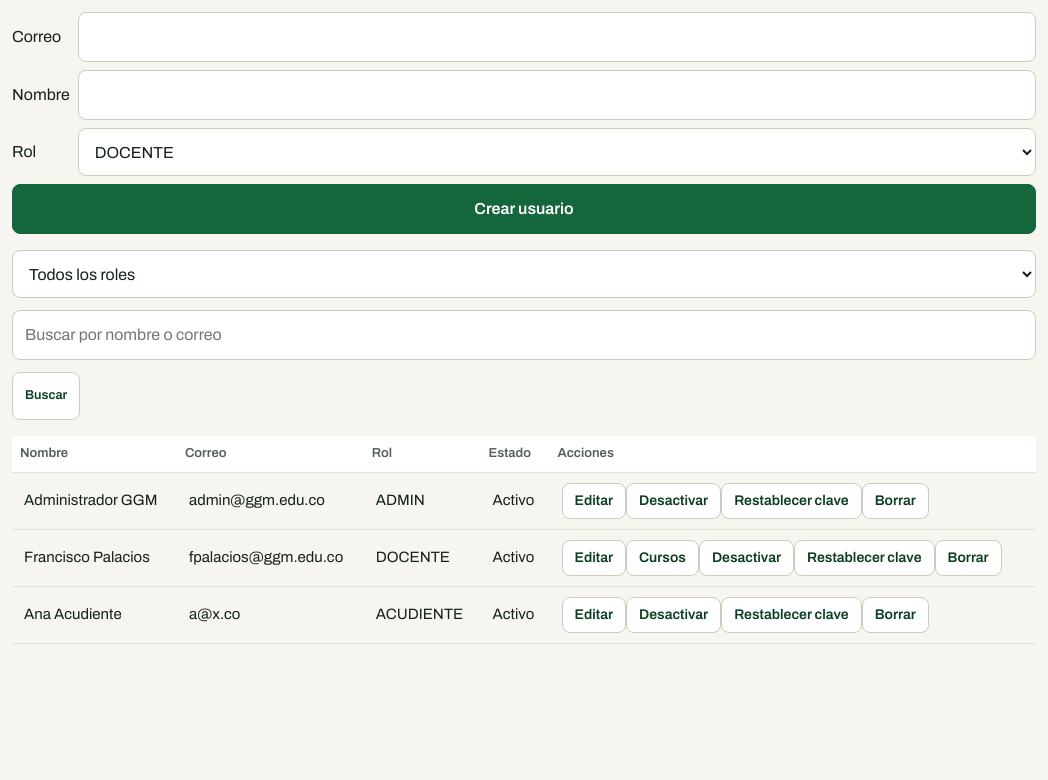
Test: PanelUsuarios › cursos asignados › al abrir un docente carga sus cursos y los marca
The width and height of the screenshot is (1048, 780).
Click the button with aria-label "Cursos de Francisco Palacios": (662, 558) [626,540,699,576]
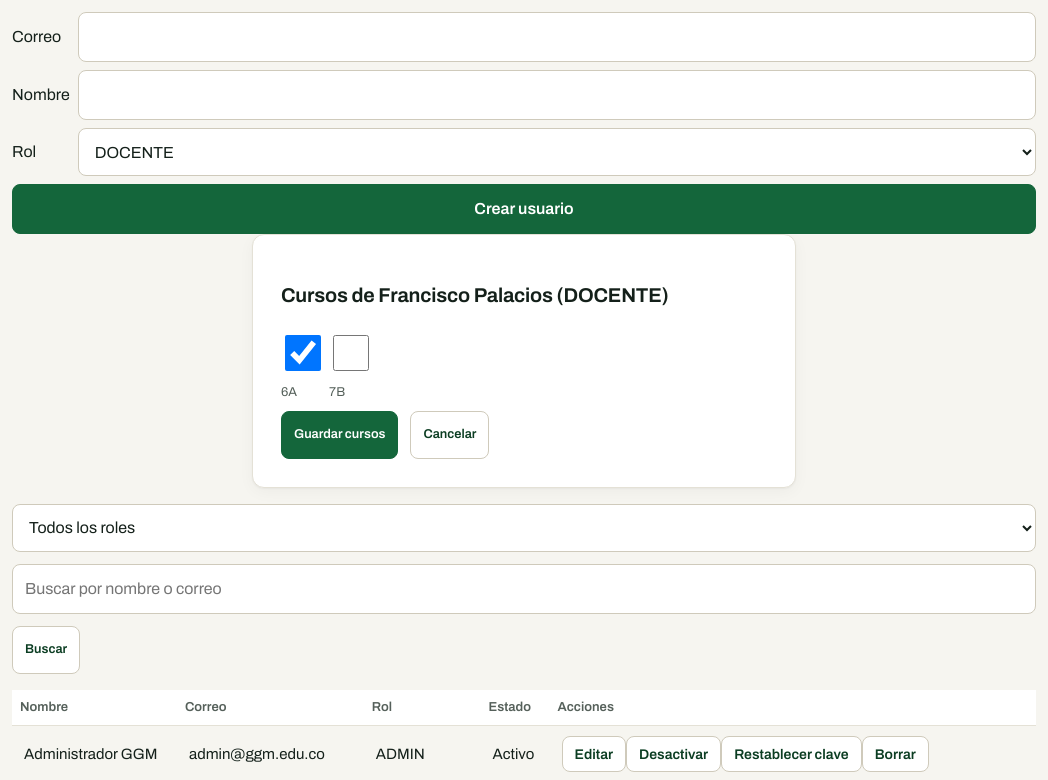
Check: the checkbox labelled "6A" is checked, box [285,329,321,377]
Check: the checkbox labelled "7B" is not checked, box [333,329,369,377]
